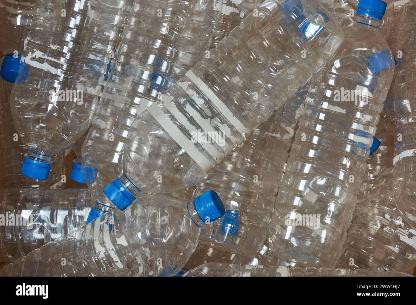Plastic Bottle: (85, 0, 345, 214), (267, 0, 395, 272), (10, 0, 126, 182), (0, 190, 224, 276)
